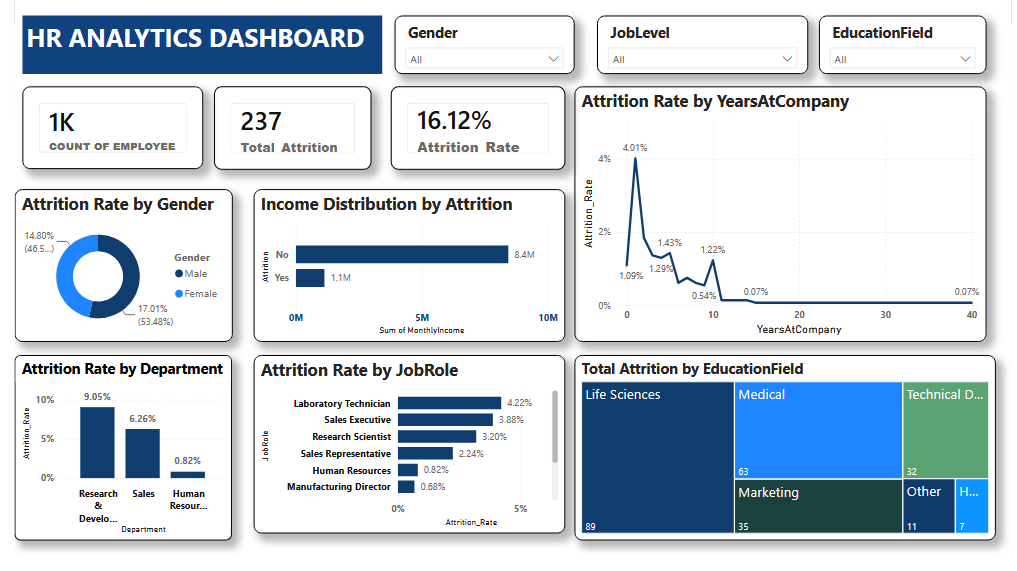

What the dashboard file says about the page in this screenshot:
{"tool":"powerbi","page":{"name":"Page 1","canvas":[1280,720],"ordinal":0},"visuals":[{"type":"cardVisual","fields":{"Data":["hr_new_project dim_employee.Total_Attrition"]},"box":[256.1,114.1,202,106.8],"z":0},{"type":"cardVisual","fields":{"Data":["hr_new_project dim_employee.Attrition_Rate"]},"box":[482.9,114.1,223.9,106.8],"z":1000},{"type":"columnChart","title":"Attrition Rate by Department","fields":{"Category":["hr_new_project dim_jobprofile.Department"],"Y":["hr_new_project dim_employee.Attrition_Rate"]},"box":[0,459.4,279.4,237.6],"z":2000},{"type":"clusteredBarChart","title":"Attrition Rate by JobRole","fields":{"Category":["hr_new_project dim_jobprofile.JobRole"],"Y":["hr_new_project dim_employee.Attrition_Rate"]},"box":[306.7,459.4,400.3,229],"z":3000},{"type":"donutChart","title":"Attrition Rate by Gender","fields":{"Category":["hr_new_project dim_employee.Gender"],"Y":["hr_new_project dim_employee.Attrition_Rate"]},"box":[0,245.9,279.5,196.1],"z":4000},{"type":"lineChart","title":"Attrition Rate by YearsAtCompany","fields":{"Category":["hr_new_project fact_attrition.YearsAtCompany"],"Y":["hr_new_project dim_employee.Attrition_Rate"]},"box":[718.6,113.8,529.9,328.3],"z":5000},{"type":"treemap","title":"Total Attrition by EducationField","fields":{"Group":["hr_new_project dim_employee.EducationField"],"Values":["hr_new_project dim_employee.Total_Attrition"]},"box":[718.6,459.4,541.4,237.6],"z":6000},{"type":"slicer","fields":{"Values":["hr_new_project dim_jobprofile.JobLevel"]},"box":[747.8,23.4,270.7,74.6],"z":7000},{"type":"textbox","box":[10.1,23,462.2,74.9],"z":8000},{"type":"cardVisual","fields":{"Data":["hr_new_project dim_employee.COUNT OF EMPLOYEE"]},"box":[10.1,113.8,231.8,106.6],"z":9000},{"type":"slicer","fields":{"Values":["hr_new_project dim_employee.EducationField"]},"box":[1033.2,23.4,215.1,74.6],"z":10000},{"type":"slicer","fields":{"Values":["hr_new_project dim_employee.Gender"]},"box":[488.2,23,230.4,74.9],"z":11000},{"type":"clusteredBarChart","title":"Income Distribution by Attrition","fields":{"Y":["Sum(hr_new_project fact_attrition.MonthlyIncome)"],"Category":["hr_new_project fact_attrition.Attrition"]},"box":[307.3,245.9,399.5,196.1],"z":12000}]}

Visuals, with their boxes in screenshot pixels (x1, y1, x2, y2), scaled from the page's 1280x720 canvas onto the 1017x571 screenshot:
cardVisual - hr_new_project dim_employee.Total_Attrition: 203/90/364/175
cardVisual - hr_new_project dim_employee.Attrition_Rate: 384/90/562/175
"Attrition Rate by Department" columnChart: 0/364/222/553
"Attrition Rate by JobRole" clusteredBarChart: 244/364/562/546
"Attrition Rate by Gender" donutChart: 0/195/222/351
"Attrition Rate by YearsAtCompany" lineChart: 571/90/992/351
"Total Attrition by EducationField" treemap: 571/364/1001/553
slicer - hr_new_project dim_jobprofile.JobLevel: 594/19/809/78
textbox: 8/18/375/78
cardVisual - hr_new_project dim_employee.COUNT OF EMPLOYEE: 8/90/192/175
slicer - hr_new_project dim_employee.EducationField: 821/19/992/78
slicer - hr_new_project dim_employee.Gender: 388/18/571/78
"Income Distribution by Attrition" clusteredBarChart: 244/195/562/351
